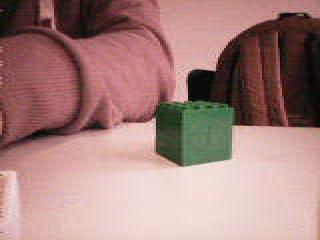legocube: (154, 98, 236, 168)
